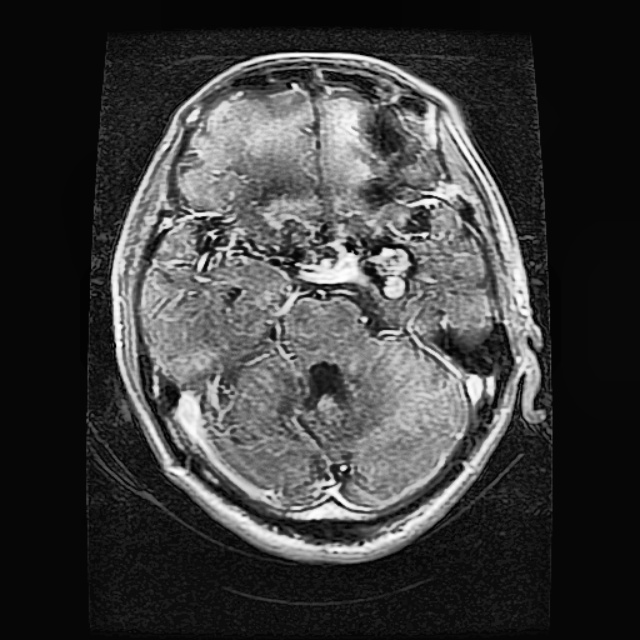Glioma: (367, 238, 418, 300)
